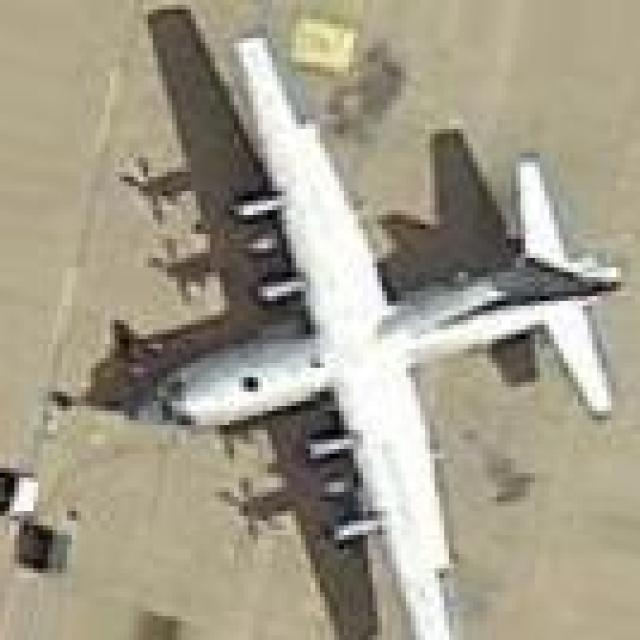C-130_TopDown: (66, 0, 620, 636)
